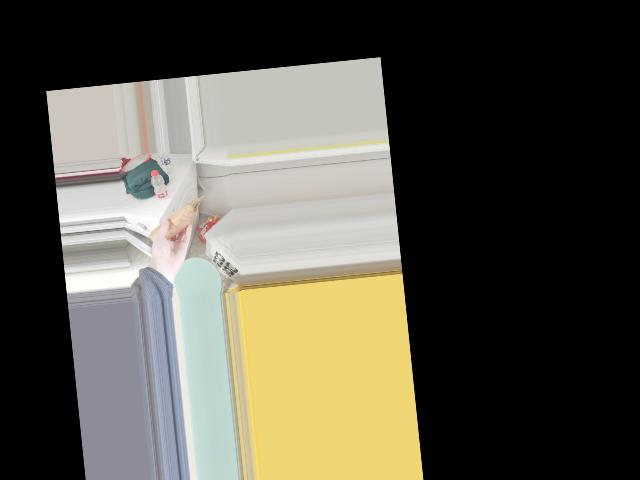sweet_potato: (149, 212, 188, 247)
